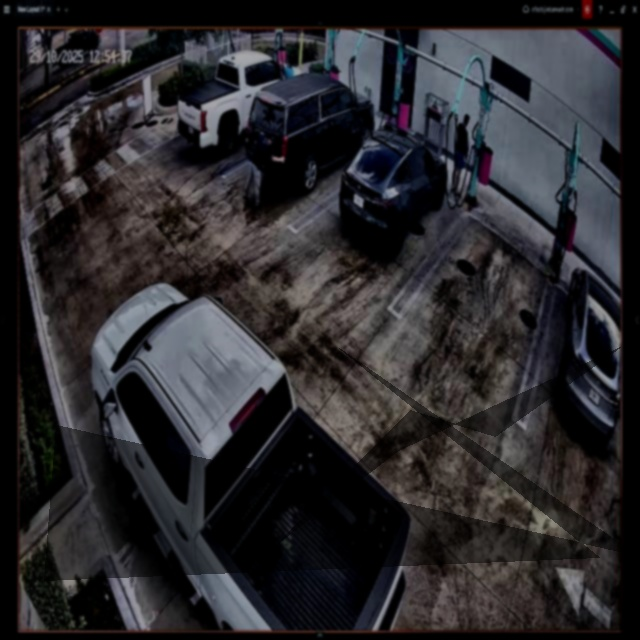Car: (90, 274, 411, 628), (245, 73, 375, 195), (340, 127, 448, 249), (173, 51, 301, 153)
